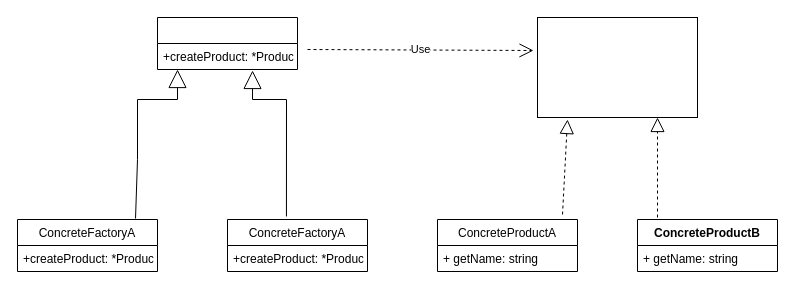
Some shapes in this 795 by 292 pixel diagram are drawn without their labels. The box of each missing label's shape, as (x1, y1, x2, y2) in pixels:
Factory: (156, 16, 298, 70)
«interface» Product +getName(): (536, 16, 698, 118)
